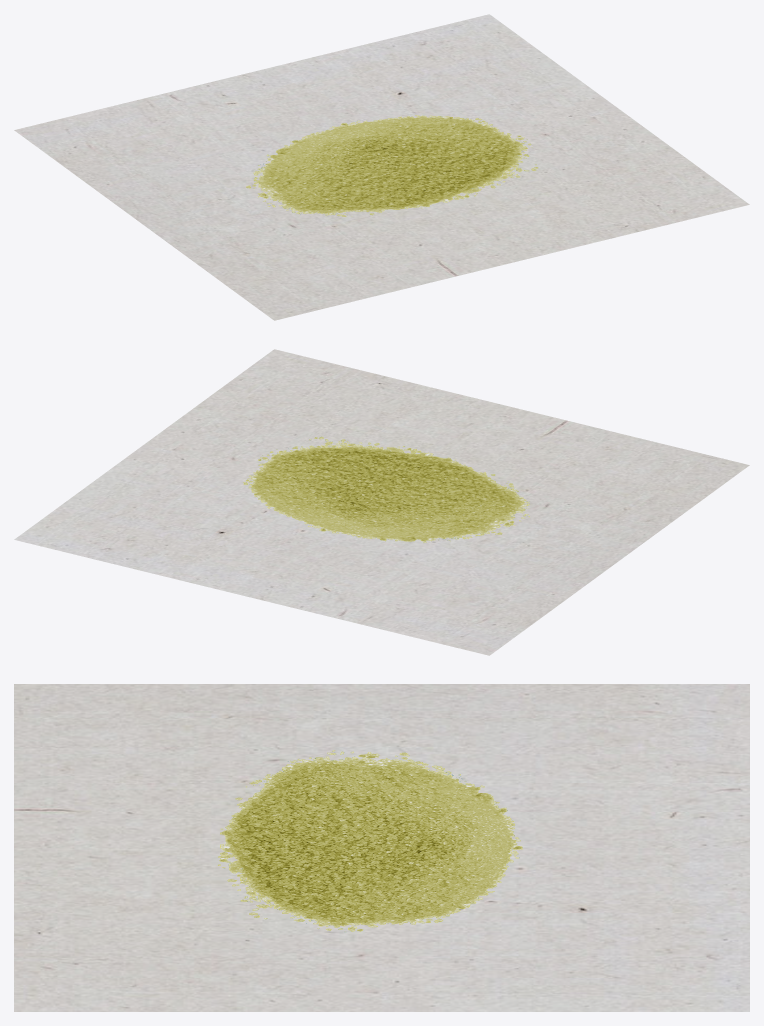
The model's file is SM_黄粉末.FBX.
3 views of the same model, one above another, from view 1: azimuth 30°, elevation 25°; view 2: azimuth 150°, elevation 25°; view 3: azimuth 270°, elevation 25° (orthographic). The views are drawn at different scales.
Parts seen in each view (by area): view 1: SM_纸001, SM_黄粉末; view 2: SM_纸001, SM_黄粉末; view 3: SM_纸001, SM_黄粉末.
Part boxes in pixels (x1,y1,x2,y2): SM_纸001: (14,14,749,320); SM_黄粉末: (246,115,538,216); SM_纸001: (14,349,749,655); SM_黄粉末: (243,436,529,542); SM_纸001: (14,684,749,1011); SM_黄粉末: (217,750,522,932).
Size of the model in its own units: 113 by 1.17 by 107.
